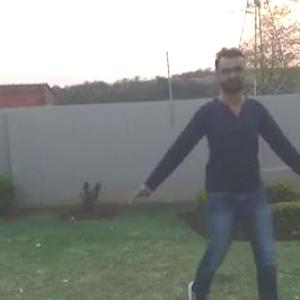land: (162, 72, 286, 256)
